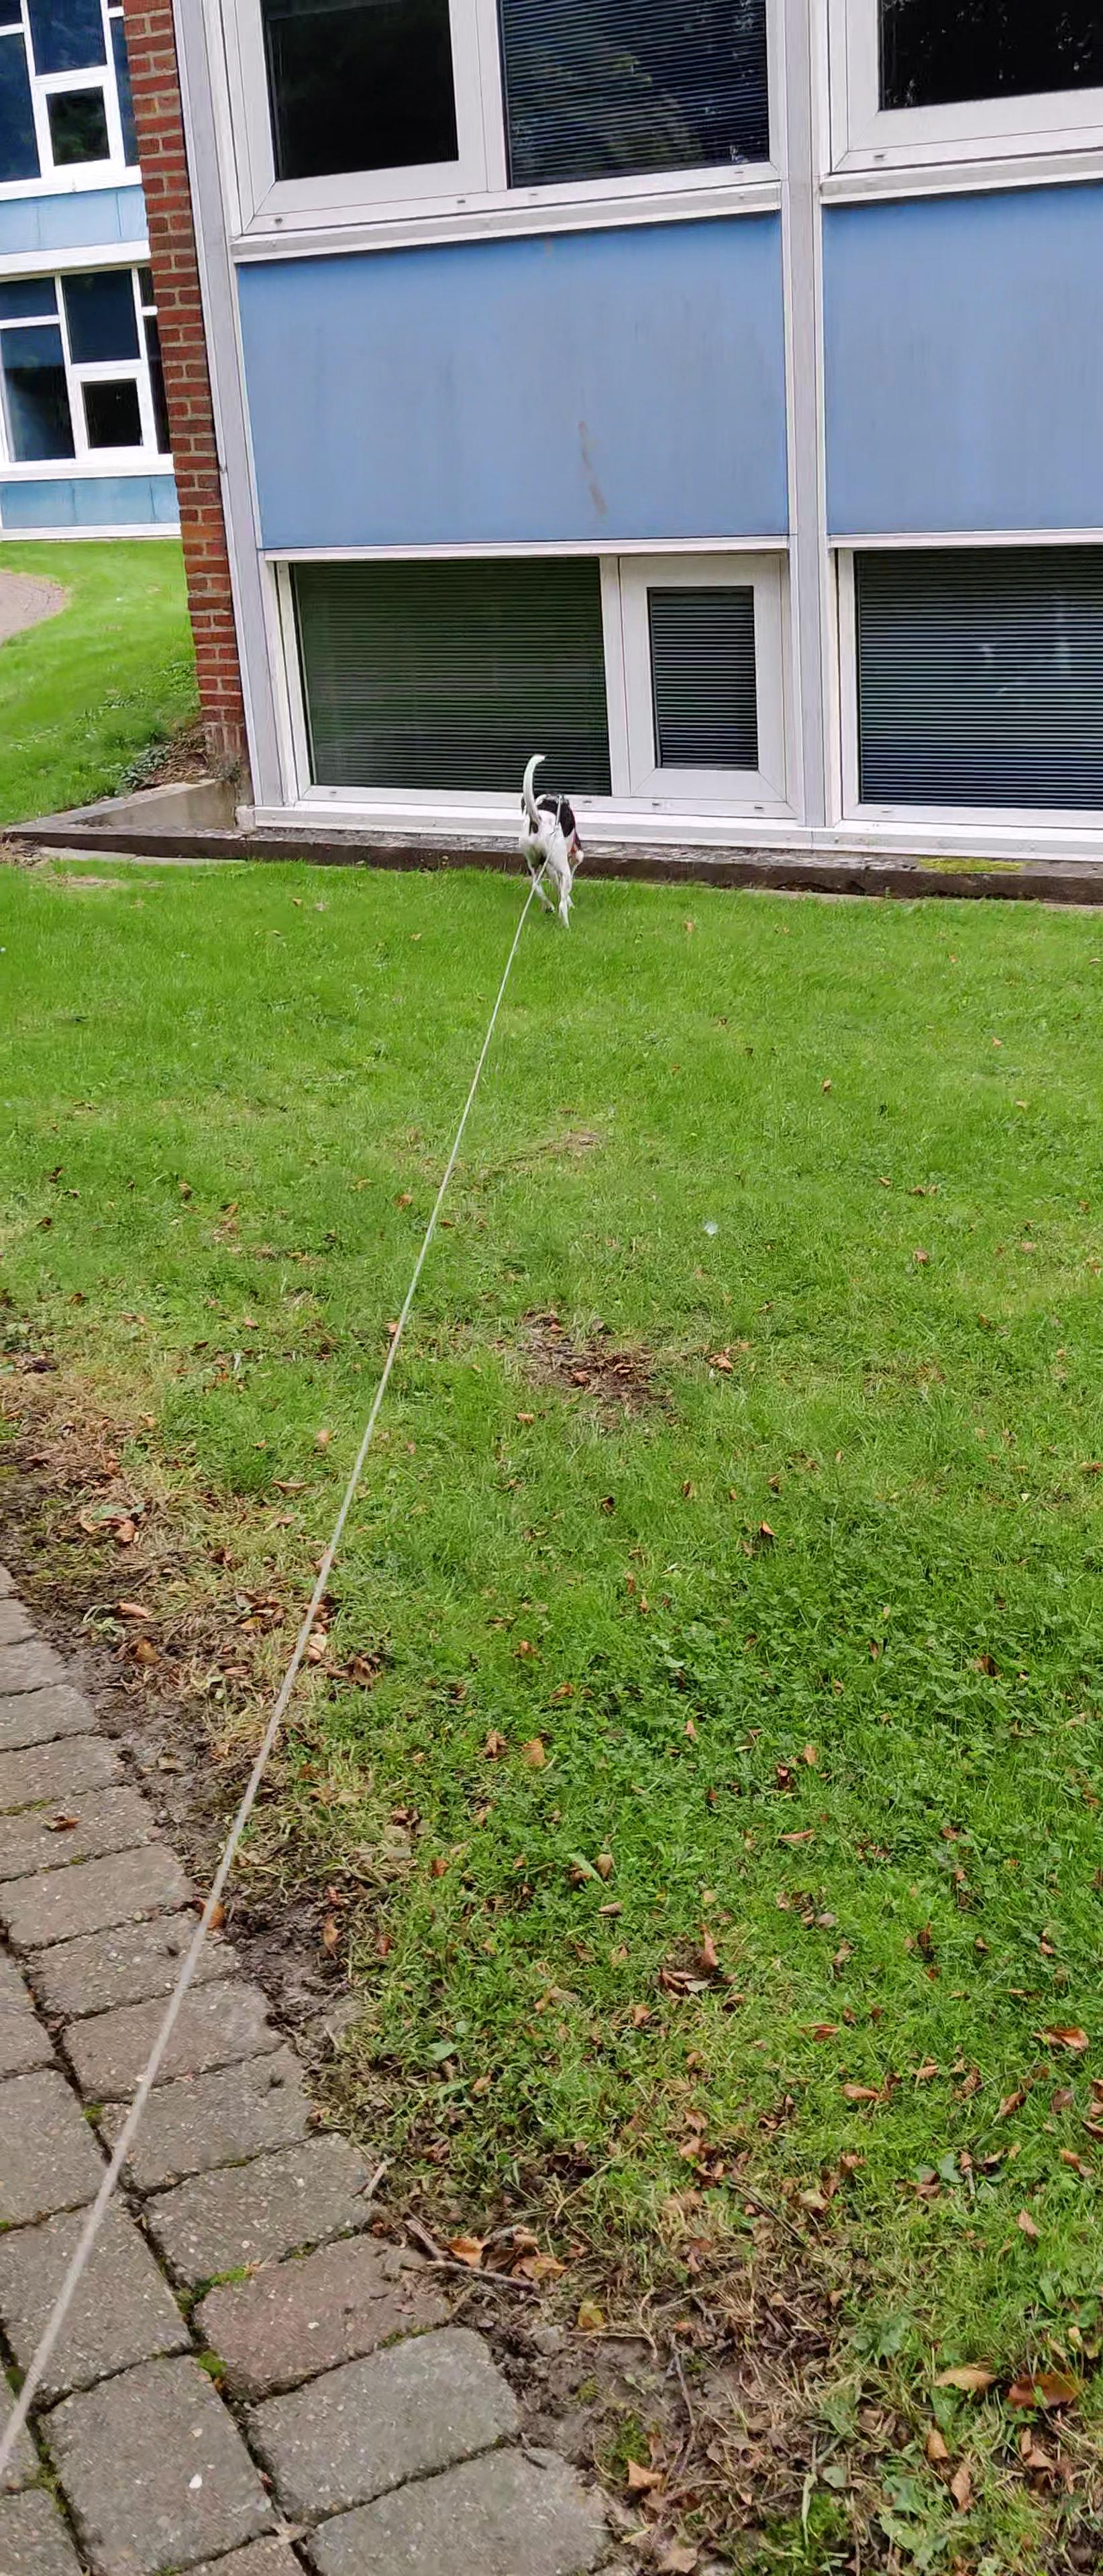Dog: (511, 749, 593, 931)
